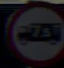Heavy Vehicles: (6, 5, 60, 58)
